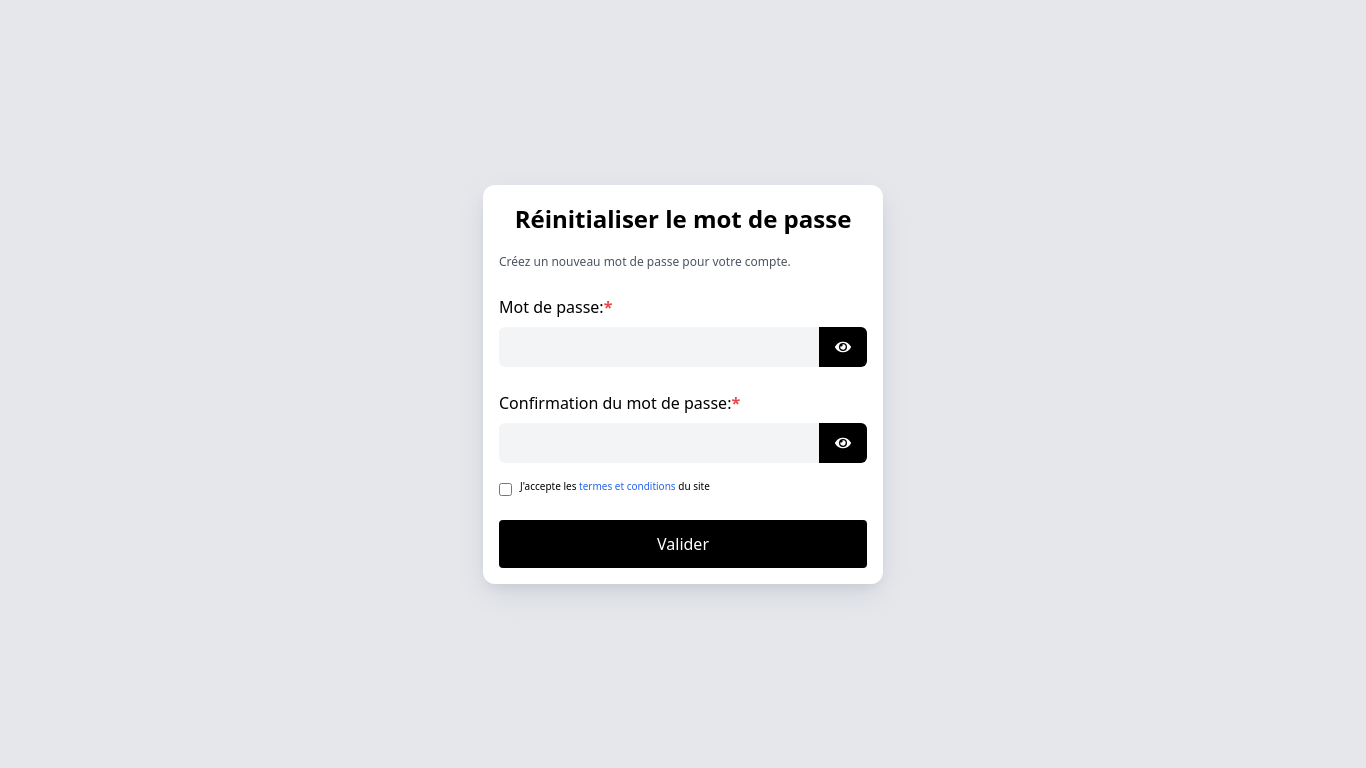
Test: PasswordResetPage (integration) › updating the password › display the error returned by the API in case of failure
The image size is (1366, 768).
Check: the button "Valider" is shown, box [499,520,867,568]
Type "short" into the password field named "password" at (659,346), box [499,326,819,366]
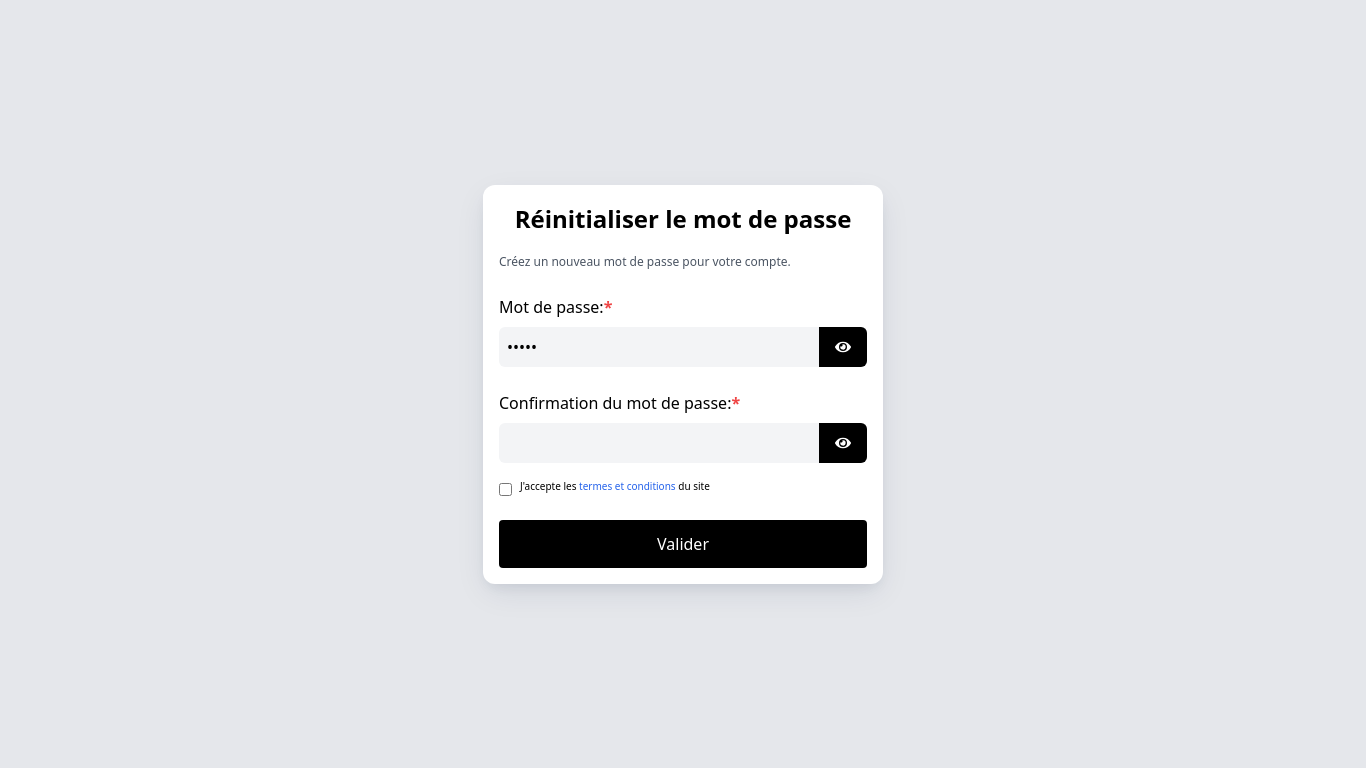
Type "short" into the password field named "confirmPassword" at (659,442), box [499,422,819,462]
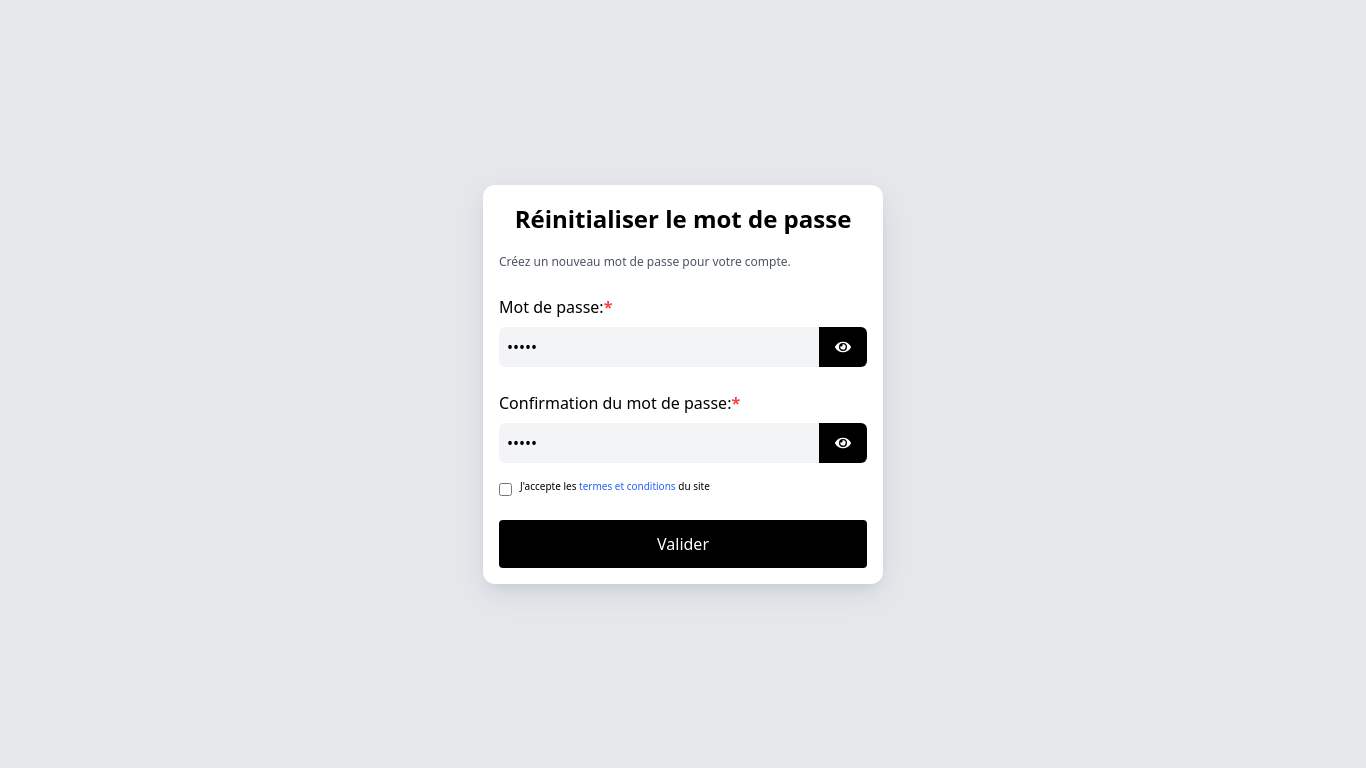
Click the checkbox with test id "checkbox-input" at (506,489), box [499,482,512,496]
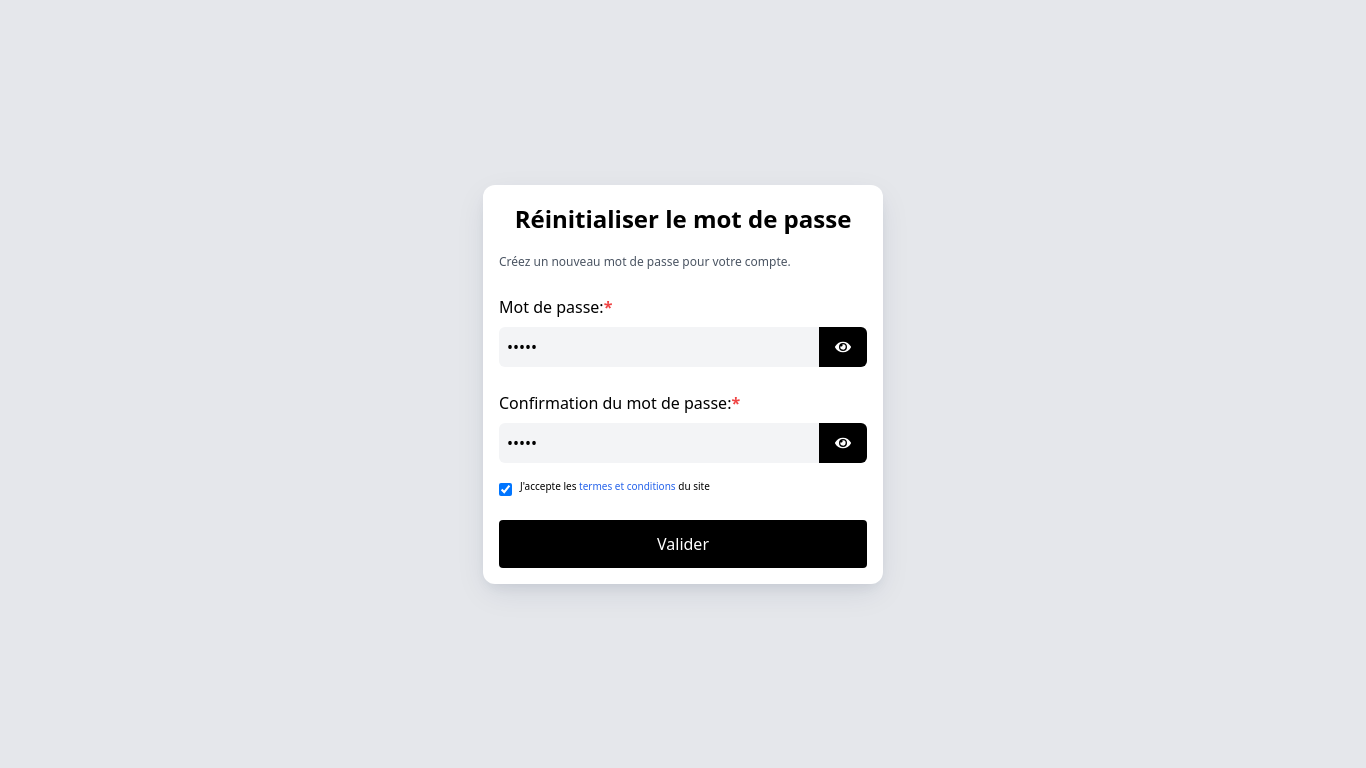
Click the button "Valider" at (683,544), box [499,520,867,568]
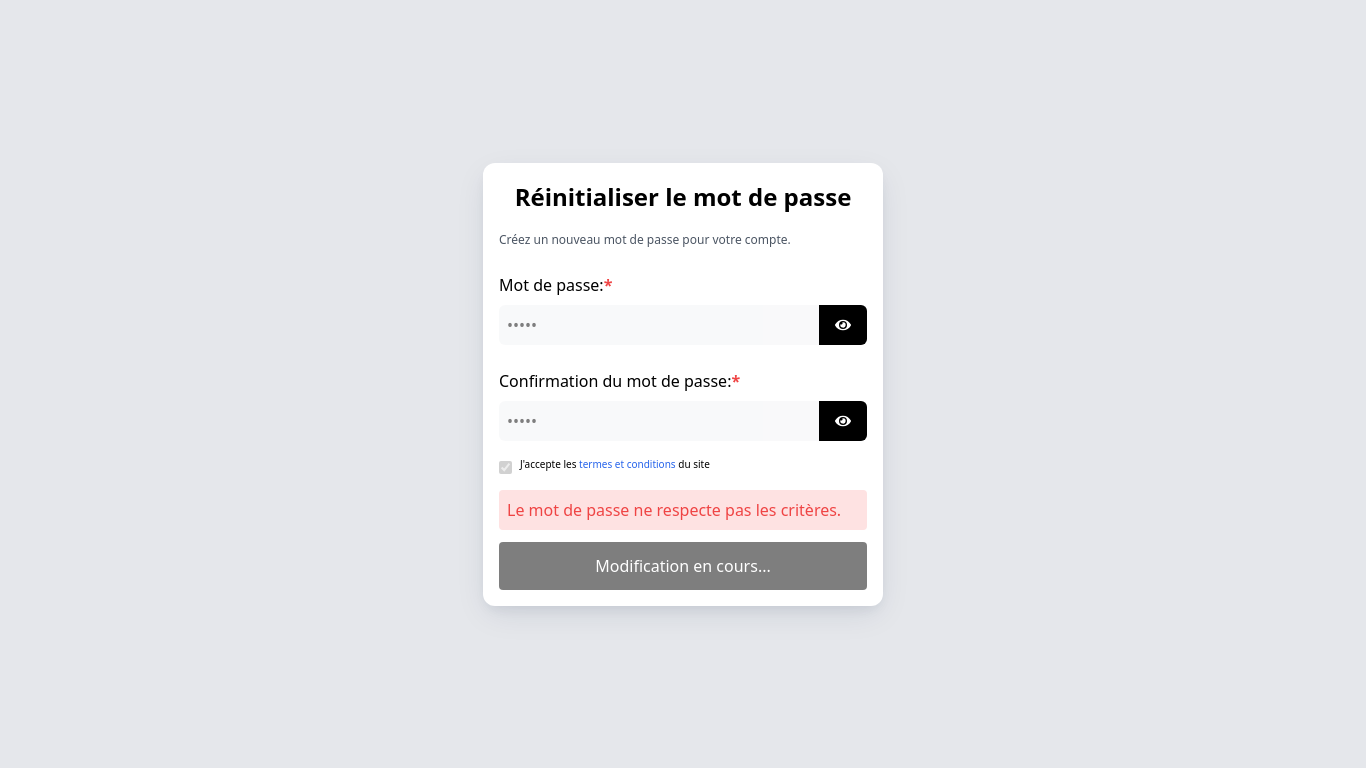
Check: the text "Le mot de passe ne respecte pas les critères." is shown, box [507,498,859,522]
